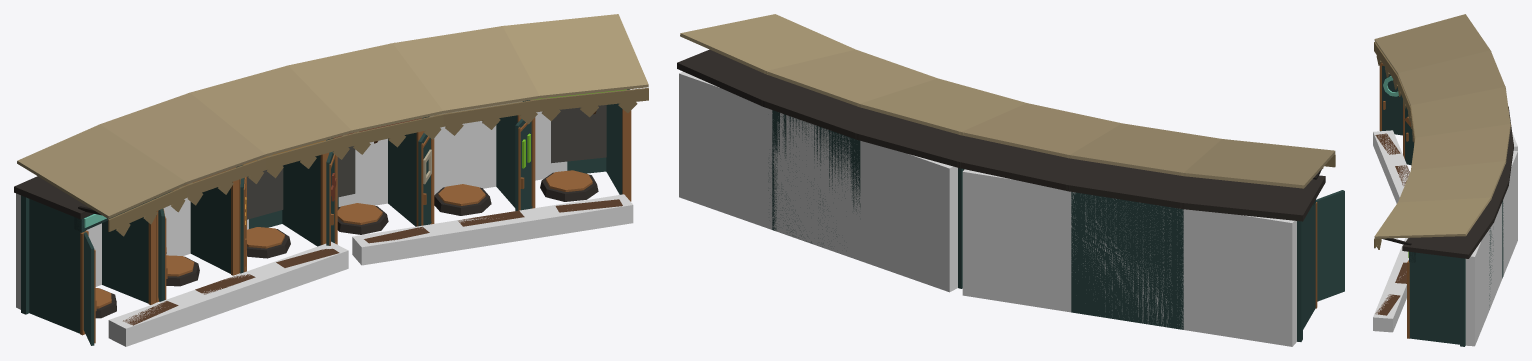
File: camp_lockers.glb
The picture shows the model from 3 angles, left to right: view 1: azimuth 30°, elevation 25°; view 2: azimuth 150°, elevation 25°; view 3: azimuth 270°, elevation 25°; orthographic projection. The views are drawn at different scales.
Visible parts, largest first — view 1: Body, camp_lockers-col-col; view 2: Body, camp_lockers-col-col; view 3: Body, camp_lockers-col-col.
Boxes of the visible parts, <box> form: Body: <box>14,14,648,345</box>; camp_lockers-col-col: <box>16,111,633,346</box>; Body: <box>677,14,1344,341</box>; camp_lockers-col-col: <box>679,71,1296,346</box>; Body: <box>1374,14,1513,346</box>; camp_lockers-col-col: <box>1373,130,1517,346</box>.
Bounding box in the file's own units: 21.16 × 5.11 × 5.88.
